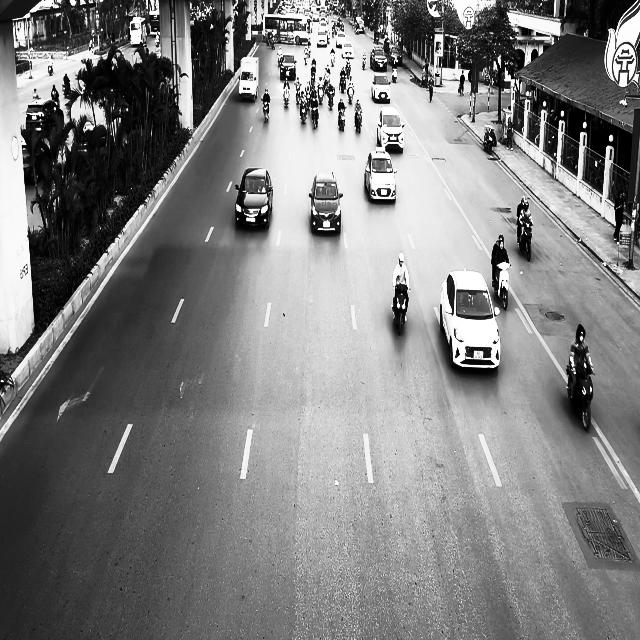bus: (262, 13, 311, 44), (130, 16, 146, 47)
car: (439, 268, 501, 370), (235, 167, 273, 229), (309, 170, 343, 233), (70, 122, 114, 166), (364, 148, 398, 202), (26, 98, 64, 134), (377, 105, 405, 153), (21, 134, 47, 184), (372, 74, 392, 103), (280, 52, 296, 80), (342, 41, 354, 59)
motorbike: (566, 362, 595, 431), (492, 261, 512, 310), (392, 284, 410, 335), (518, 218, 533, 262), (311, 102, 320, 129), (338, 106, 346, 132), (262, 98, 270, 123), (355, 108, 363, 133), (283, 87, 290, 107), (428, 79, 434, 102)
